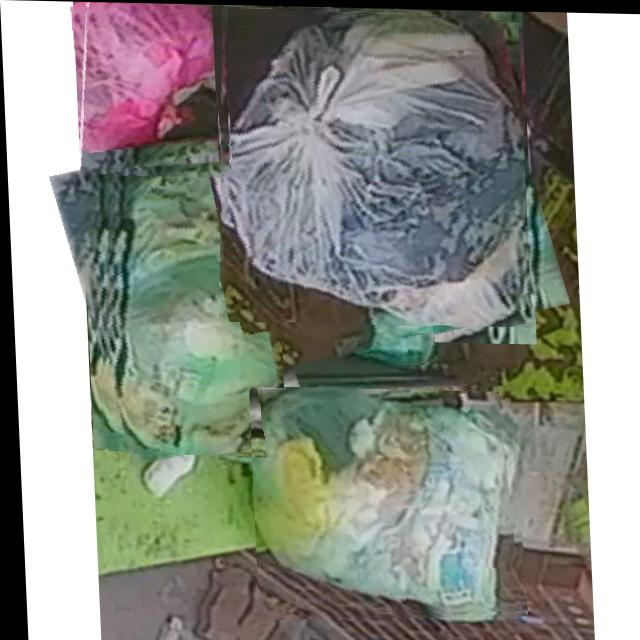general_trashbag: (249, 387, 504, 610), (100, 151, 280, 453), (338, 294, 431, 362)
other_trashbag: (219, 11, 524, 324), (84, 2, 214, 171)
